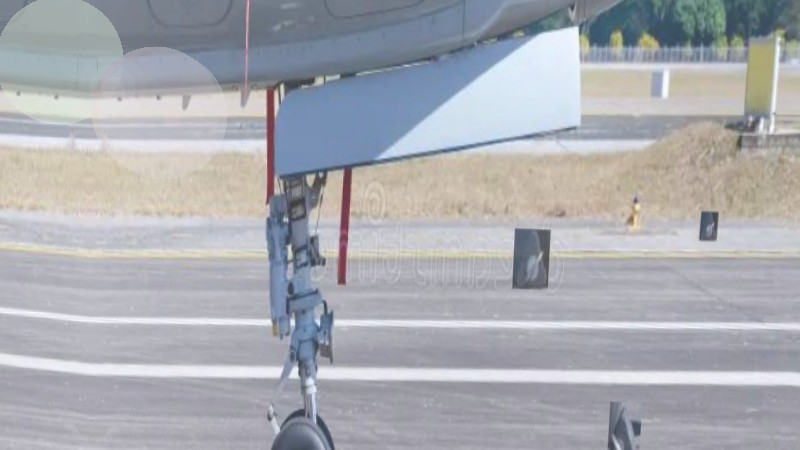chock: (512, 229, 551, 290), (606, 402, 643, 450), (699, 212, 719, 242)
wheel: (264, 403, 343, 450), (278, 404, 339, 450)
